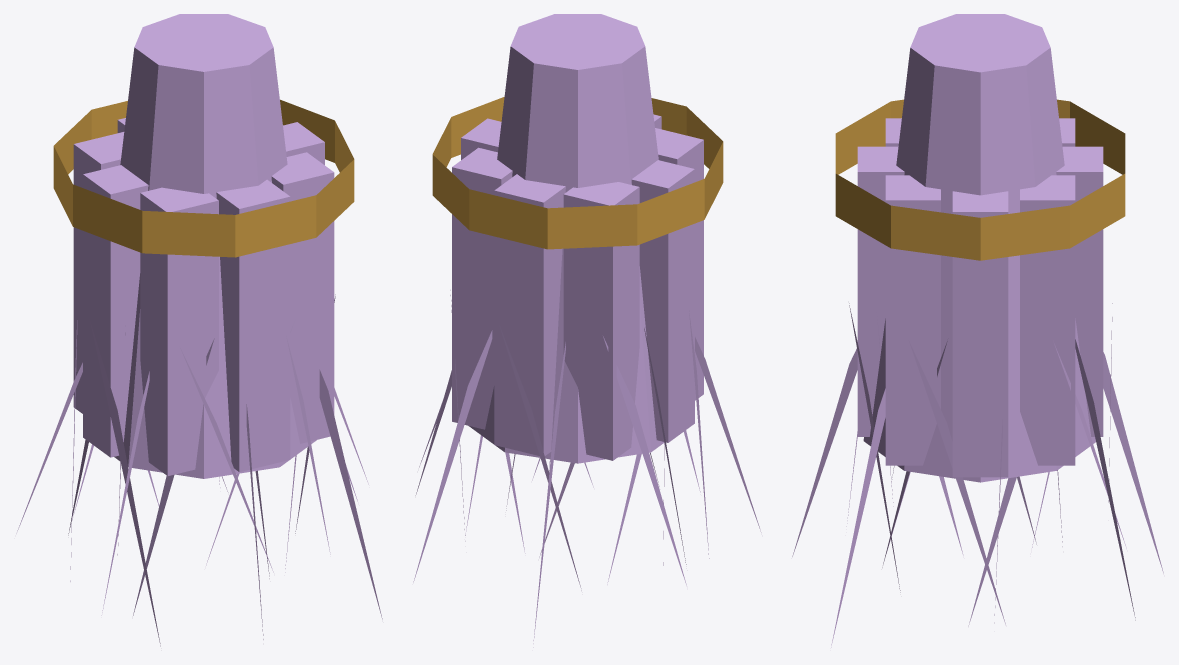
File: custom_broom_cerdas_starlight.obj
3 renders of one model, left to right at view 1: azimuth 30°, elevation 25°; view 2: azimuth 150°, elevation 25°; view 3: azimuth 270°, elevation 25°, orthographic. The views are drawn at different scales.
Size of the model in its own units: 0.4301 by 0.714 by 0.4341.
